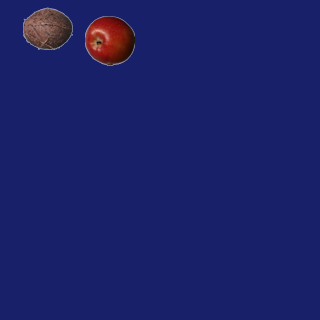Apple Braeburn: (84, 15, 134, 65)
Cocos: (22, 3, 72, 53)
